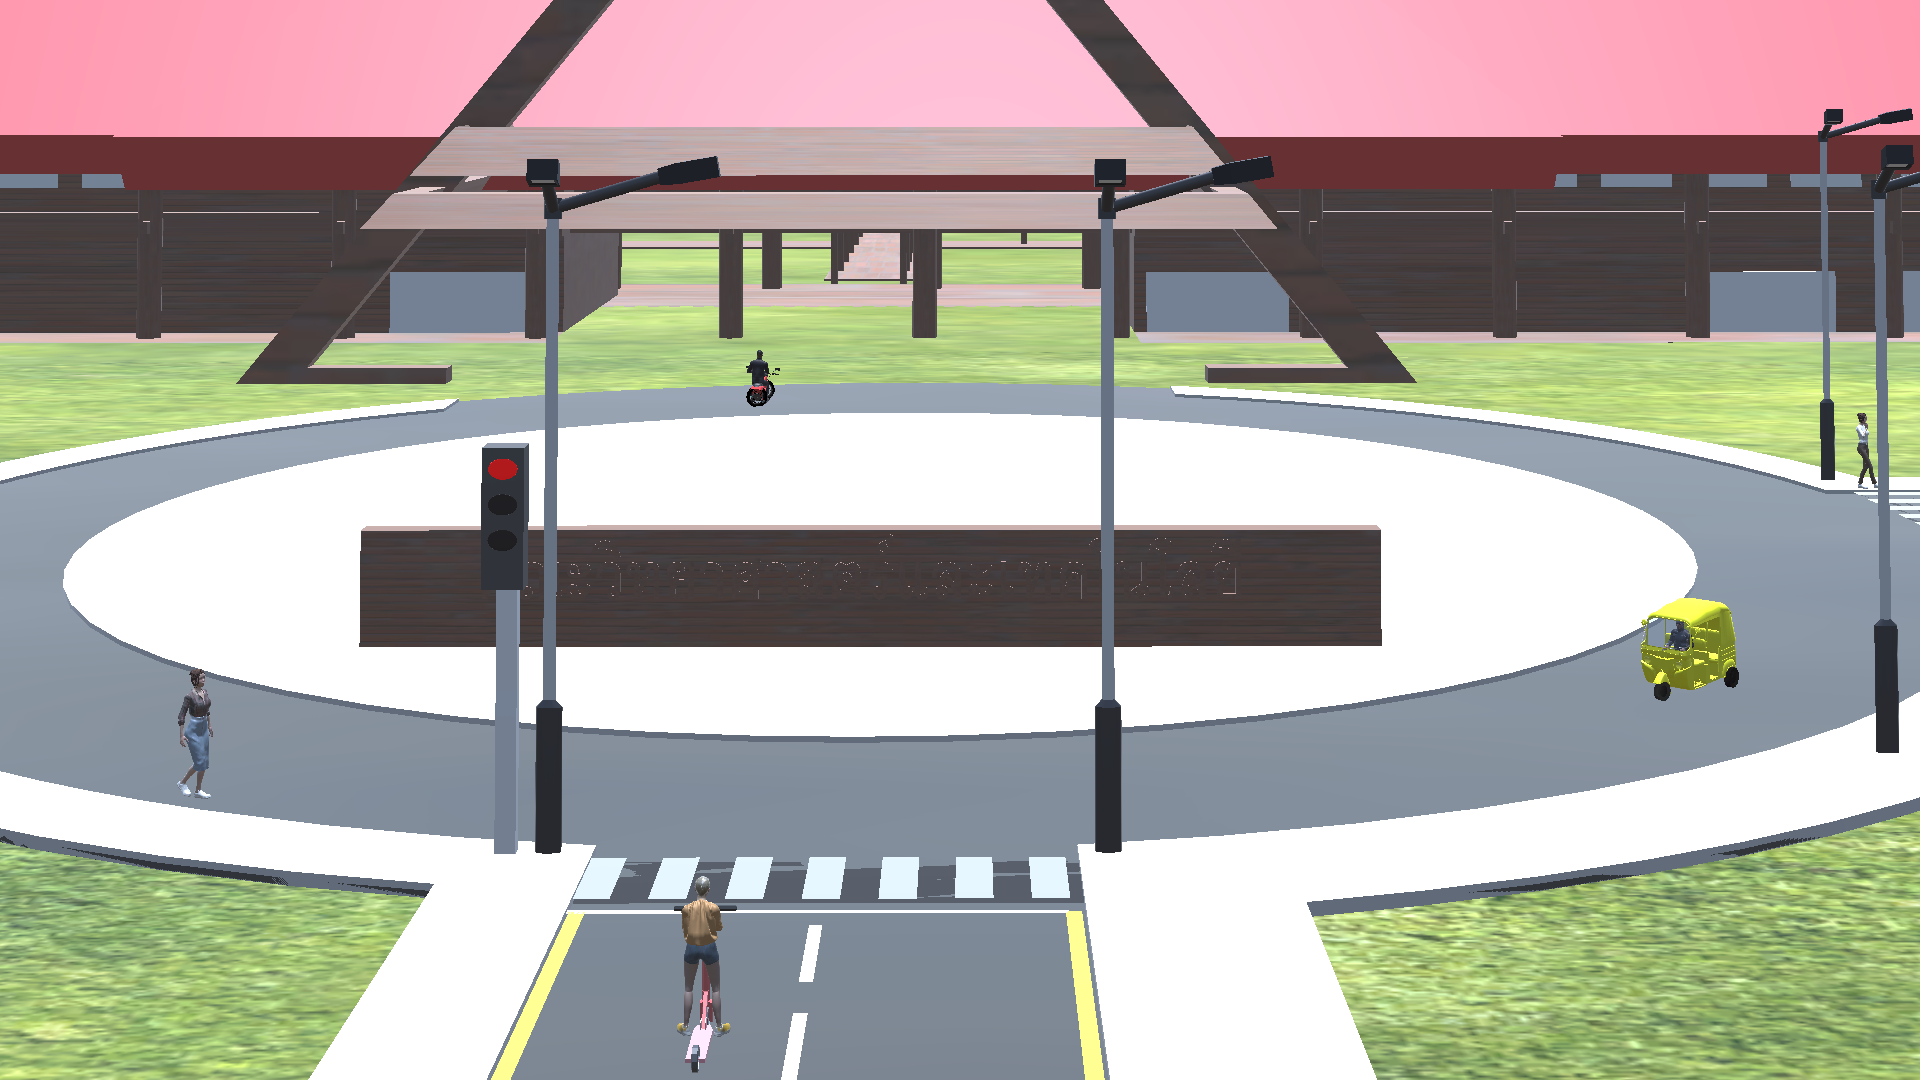pedestrian: (172, 663, 224, 808), (1845, 407, 1882, 492)
